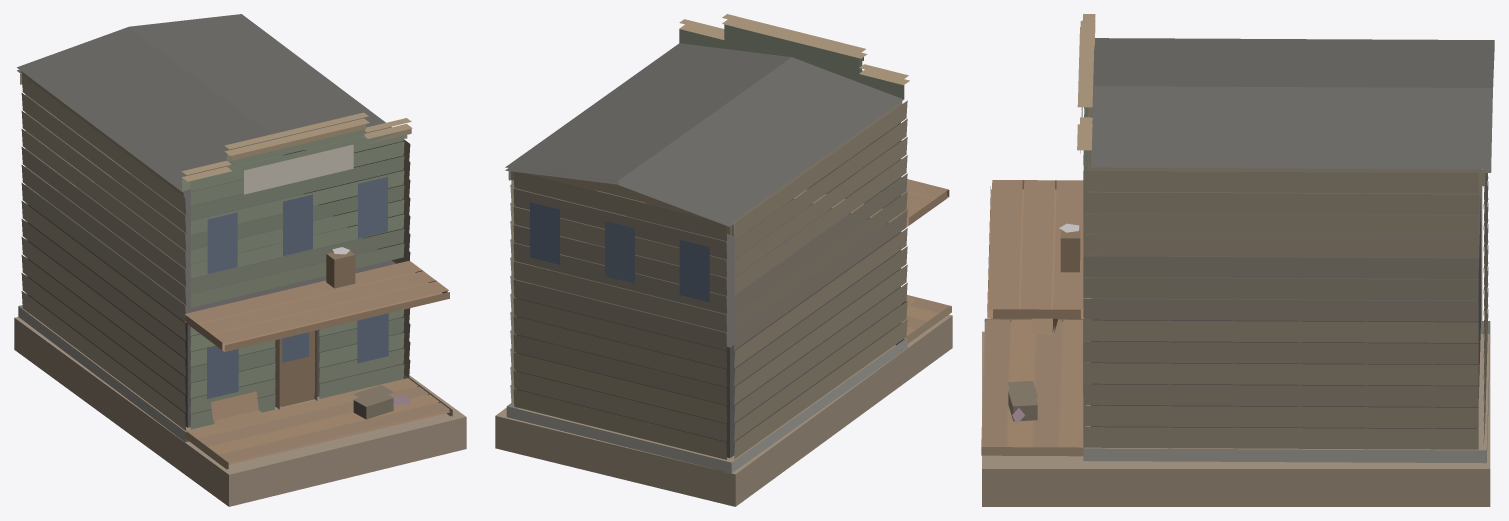
File: house_2.lod.glb
3 renders of one model, left to right at view 1: azimuth 30°, elevation 25°; view 2: azimuth 150°, elevation 25°; view 3: azimuth 270°, elevation 25°, orthographic. The views are drawn at different scales.
Parts seen in each view (by area): view 1: house_2; view 2: house_2; view 3: house_2.
Part boxes in pixels (x1=…): house_2: x1=14, y1=14, x2=466, y2=506; house_2: x1=495, y1=14, x2=952, y2=506; house_2: x1=981, y1=14, x2=1494, y2=506.
Size of the model in its own units: 7.98 by 10.12 by 12.59.
